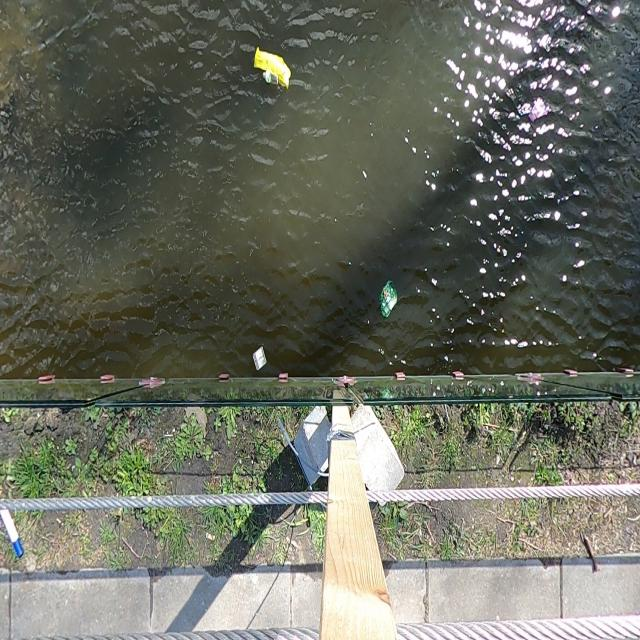Autre plastique: (250, 342, 270, 377)
Sac plastique: (376, 275, 401, 321)
